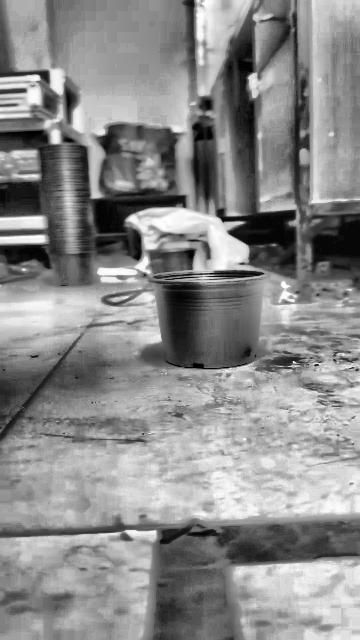pot: (149, 269, 267, 369)
